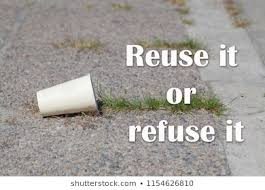paper_cup: (36, 74, 101, 119)
